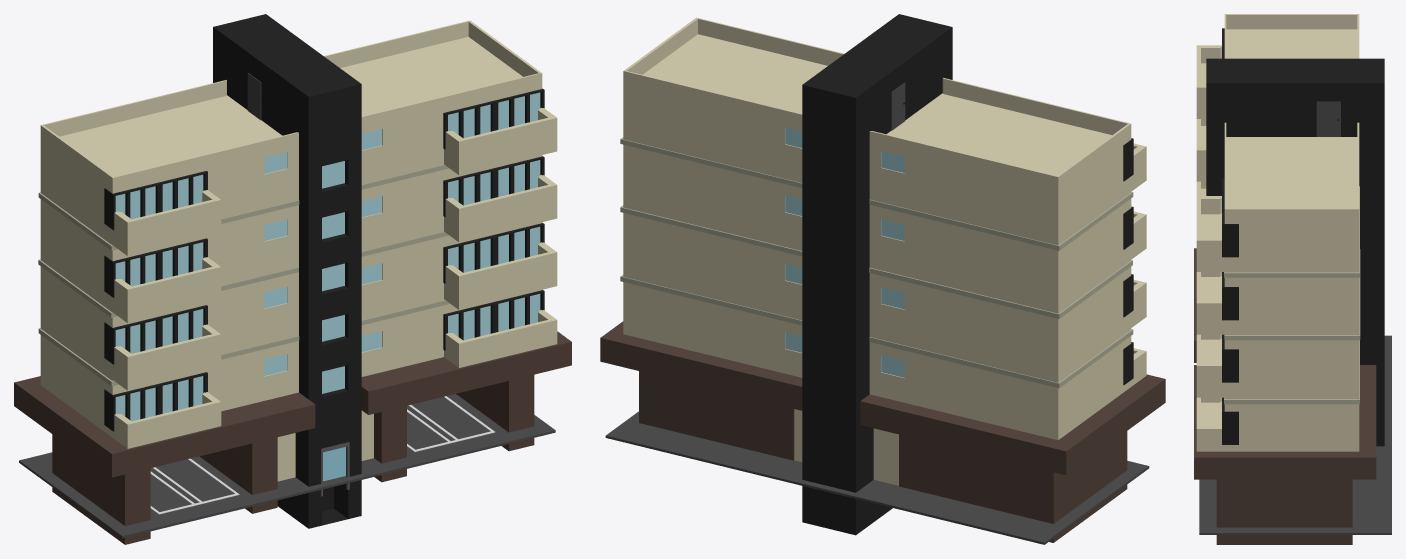
Rendered from Villa.fbx.
3 views of the same model, side by side, from view 1: azimuth 30°, elevation 25°; view 2: azimuth 150°, elevation 25°; view 3: azimuth 270°, elevation 25° (orthographic). The views are drawn at different scales.
Visible parts, largest first — view 1: Cube.005, Cube.023, Cube.001, Cube.002, Cube, Cube.003, Cube.020, Cube.027, Cube.012, Cube.026, Cube.011, Cube.024 (+20 smaller); view 2: Cube.005, Cube.023, Cube.001, Cube.002, Cube.003, Cube, Cube.004, Cube.017, Cube.008, Cube.009, Cube.007, Cube.032 (+3 smaller); view 3: Cube.023, Cube.001, Cube.003, Cube.005, Cube, Cube.034, Cube.035, Cube.036, Cube.033, Cube.028, Cube.030, Cube.029 (+2 smaller).
Part boxes in pixels (bbox=[...]): Cube.005: bbox=[40, 80, 298, 448]; Cube.023: bbox=[324, 20, 557, 376]; Cube.001: bbox=[213, 14, 361, 528]; Cube.002: bbox=[14, 376, 315, 544]; Cube: bbox=[19, 394, 555, 538]; Cube.003: bbox=[361, 331, 571, 482]; Cube.020: bbox=[322, 161, 344, 393]; Cube.027: bbox=[448, 293, 540, 340]; Cube.012: bbox=[115, 376, 203, 421]; Cube.026: bbox=[448, 226, 540, 272]; Cube.011: bbox=[115, 309, 203, 353]; Cube.024: bbox=[448, 92, 540, 137]; Cube.005: bbox=[869, 78, 1146, 440]; Cube.023: bbox=[623, 17, 844, 377]; Cube.001: bbox=[802, 14, 952, 535]; Cube.002: bbox=[860, 374, 1165, 542]; Cube.003: bbox=[600, 321, 802, 460]; Cube: bbox=[605, 411, 1149, 544]; Cube.004: bbox=[794, 409, 898, 485]; Cube.017: bbox=[881, 151, 904, 377]; Cube.008: bbox=[869, 260, 1132, 318]; Cube.009: bbox=[869, 192, 1133, 250]; Cube.007: bbox=[869, 329, 1133, 388]; Cube.032: bbox=[785, 127, 802, 352]; Cube.023: bbox=[1196, 122, 1359, 451]; Cube.001: bbox=[1206, 58, 1384, 446]; Cube.003: bbox=[1194, 365, 1376, 544]; Cube.005: bbox=[1196, 14, 1359, 195]; Cube: bbox=[1199, 335, 1391, 534]; Cube.034: bbox=[1224, 249, 1360, 340]; Cube.035: bbox=[1224, 186, 1359, 277]; Cube.036: bbox=[1316, 101, 1340, 136]; Cube.033: bbox=[1224, 340, 1359, 404]; Cube.028: bbox=[1222, 179, 1238, 257]; Cube.030: bbox=[1222, 334, 1238, 382]; Cube.029: bbox=[1222, 272, 1238, 320].
Size of the model in its own units: 5844 by 5243 by 2336.
